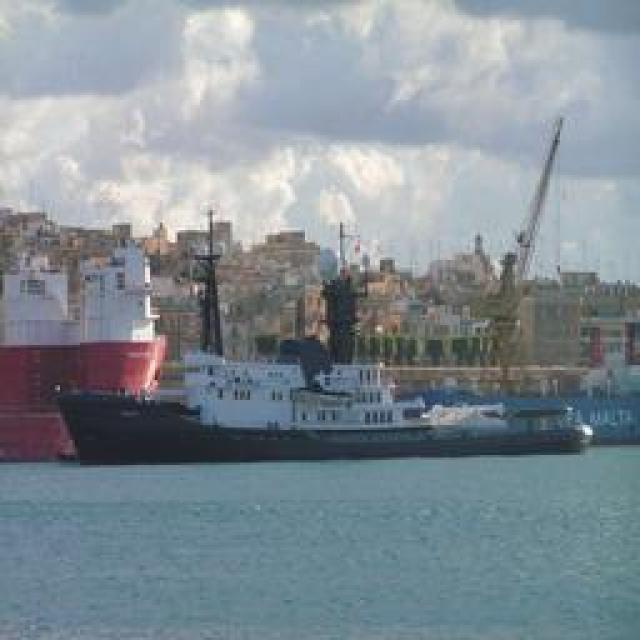CIV_Ship: (75, 370, 595, 460)
